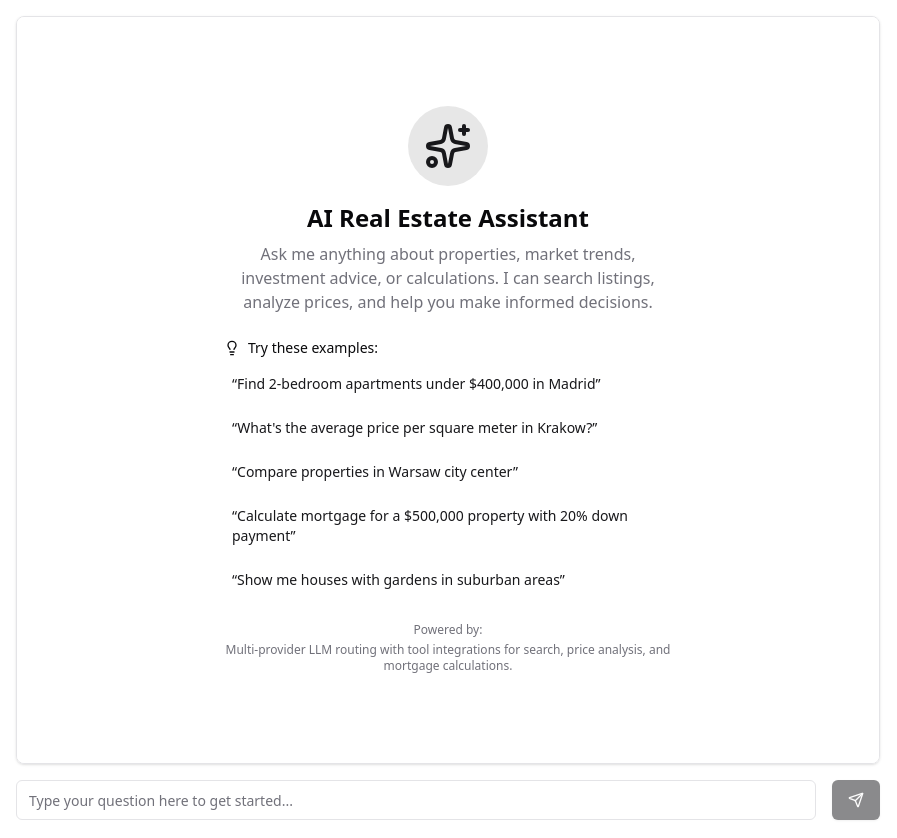
ChatPage › handles message submission
Type "Find me a house" into the field with placeholder "Type your question here to get started..." at (416, 800), box [16,780,816,820]
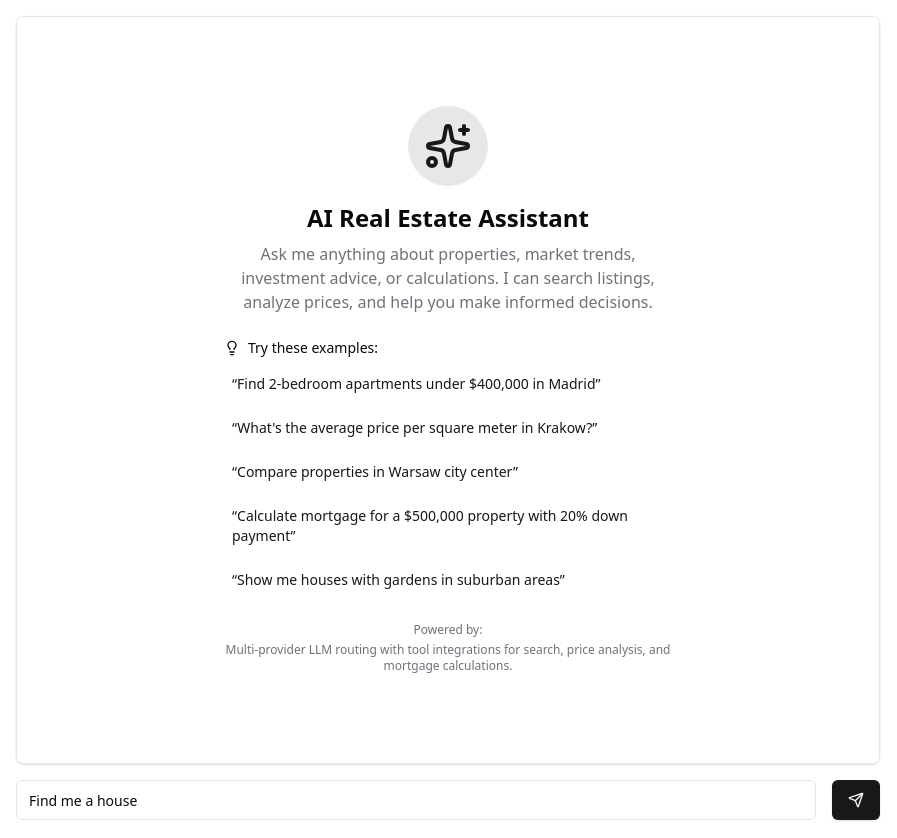
Click the button named "send message" at (856, 800), box [832,780,880,820]
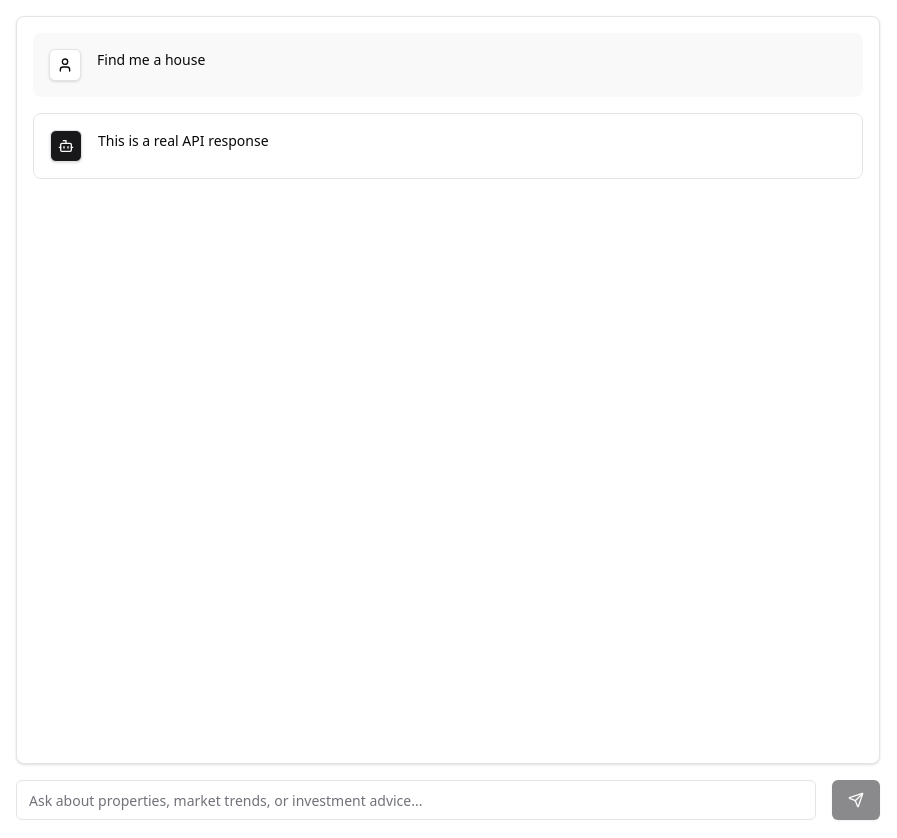
Check: the text "Find me a house" is shown, box [97,50,205,69]
Check: the field with placeholder "Type your question here to get started..." is empty, box [16,780,816,820]
Check: the text "This is a real API response" is shown, box [98,131,269,150]
